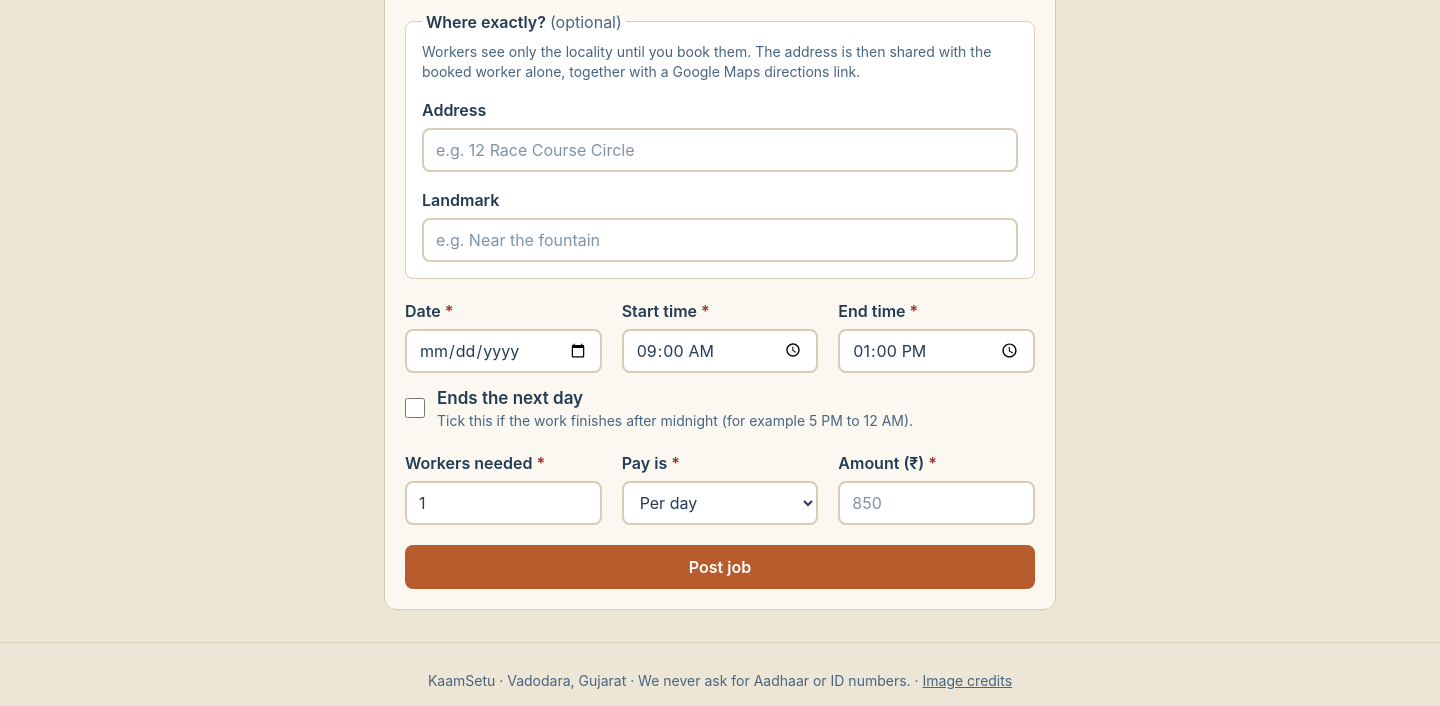
Test: post a job › validates every field and sends nothing until the form is valid
(page scrolled)
Step 1. Click the button "Post job" → (720, 567), box [405,545,1035,589]
(page scrolled)
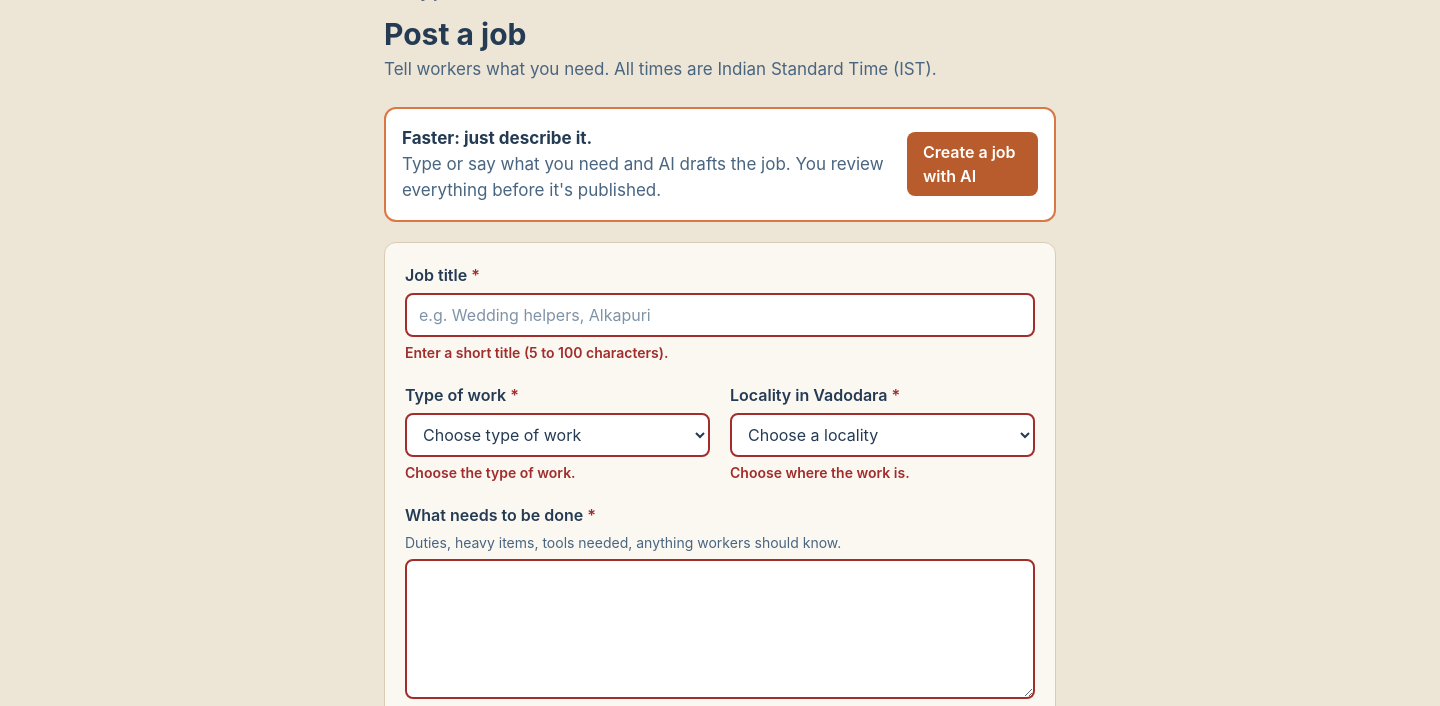
Result: the text "Choose the type of work." is shown at [405,464,576,481]
Result: the text "Choose where the work is." is shown at [730,464,910,481]
Result: the text "Enter a short title (5 to 100 characters)." is shown at [405,344,668,361]
